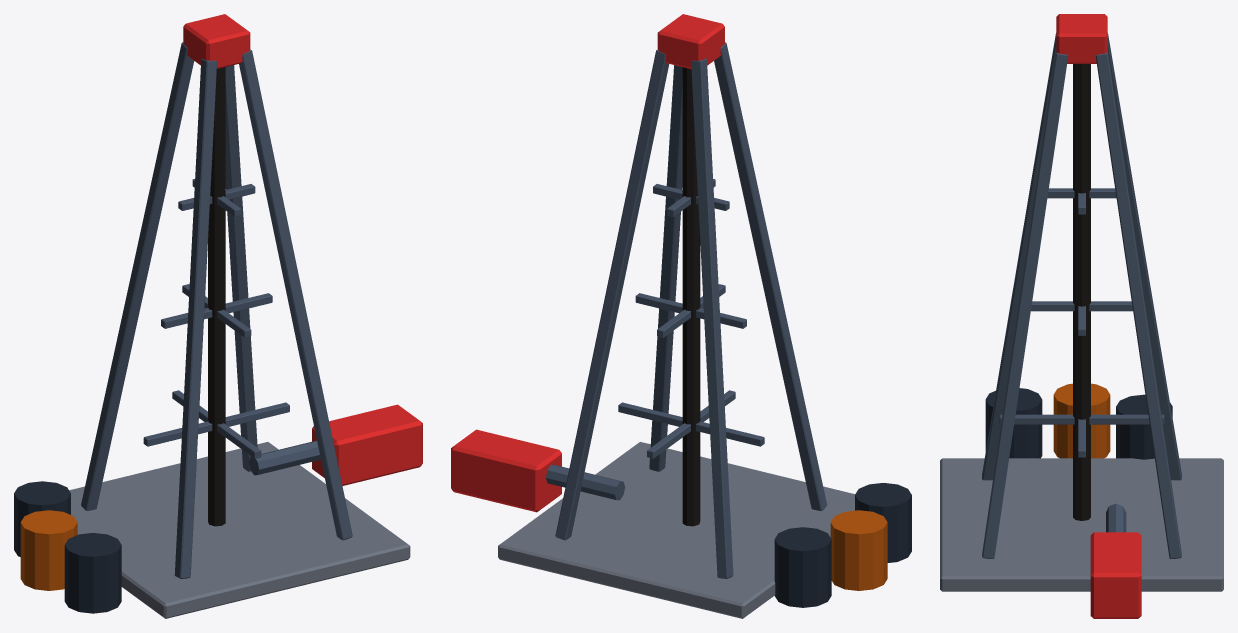
The model's file is derrick.glb.
3 views of the same model, side by side, from view 1: azimuth 30°, elevation 25°; view 2: azimuth 150°, elevation 25°; view 3: azimuth 270°, elevation 25° (orthographic).
Visible parts, largest first — view 1: g_m_475569, g_m_6b7280, g_m_dc2626, g_m_1c1917, g_m_1f2937, g_m_b45309; view 2: g_m_475569, g_m_6b7280, g_m_dc2626, g_m_1c1917, g_m_1f2937, g_m_b45309; view 3: g_m_6b7280, g_m_475569, g_m_1c1917, g_m_dc2626, g_m_1f2937, g_m_b45309.
Part boxes in pixels (x1,y1,x2,y2): g_m_475569: [81, 42, 352, 578]; g_m_6b7280: [69, 442, 410, 618]; g_m_dc2626: [183, 14, 422, 485]; g_m_1c1917: [208, 67, 225, 526]; g_m_1f2937: [14, 481, 121, 613]; g_m_b45309: [20, 510, 77, 590]; g_m_475569: [546, 42, 827, 578]; g_m_6b7280: [498, 442, 854, 618]; g_m_dc2626: [451, 14, 724, 512]; g_m_1c1917: [682, 67, 700, 526]; g_m_1f2937: [774, 483, 911, 607]; g_m_b45309: [830, 510, 887, 590]; g_m_6b7280: [940, 458, 1223, 591]; g_m_475569: [982, 33, 1181, 558]; g_m_1c1917: [1073, 64, 1090, 520]; g_m_dc2626: [1056, 14, 1141, 618]; g_m_1f2937: [985, 388, 1172, 459]; g_m_b45309: [1053, 383, 1110, 458].
Bounding box in the file's own units: 8.2 × 9.9 × 5.
